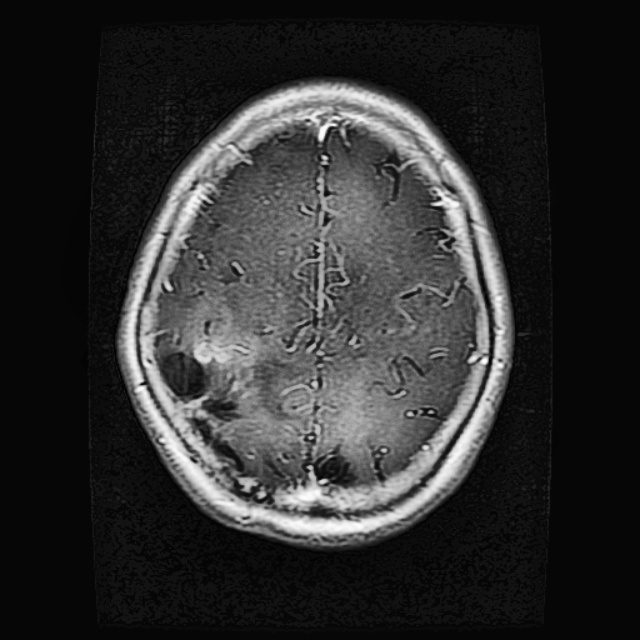Glioma: (158, 352, 310, 488)
